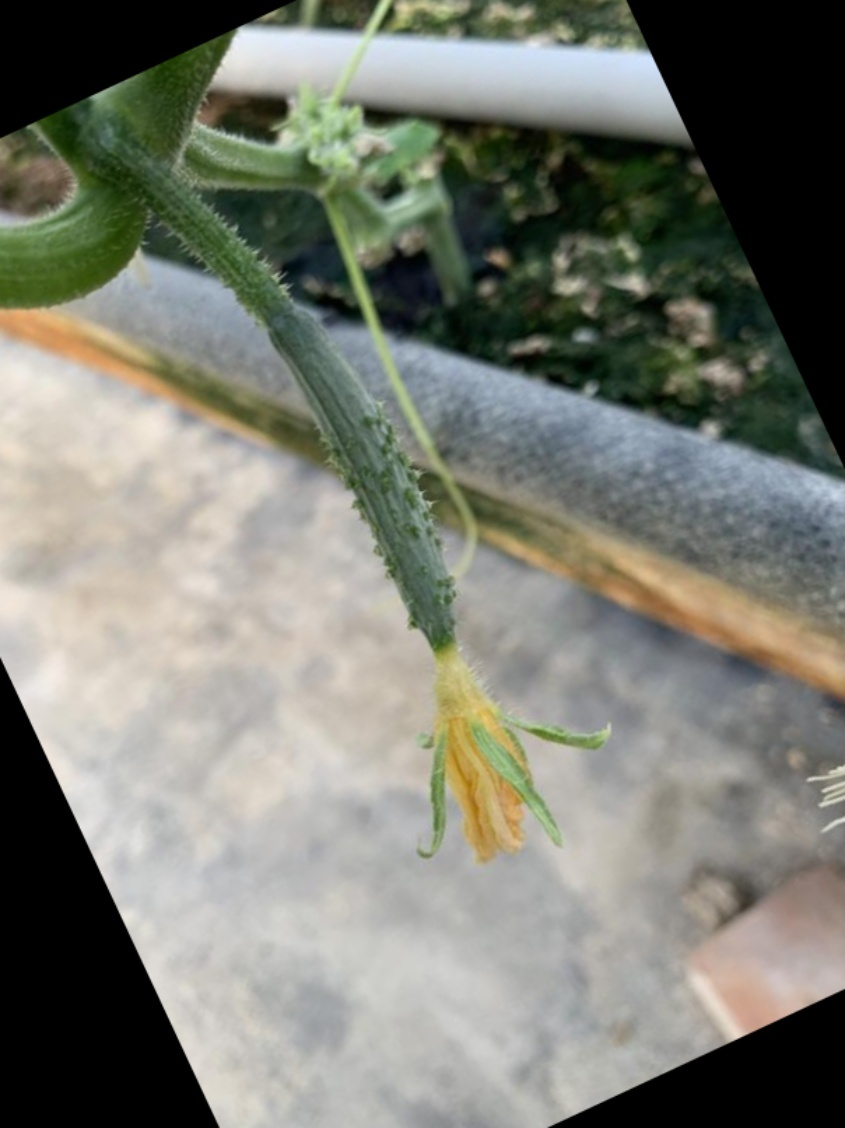bear: (241, 280, 609, 875)
